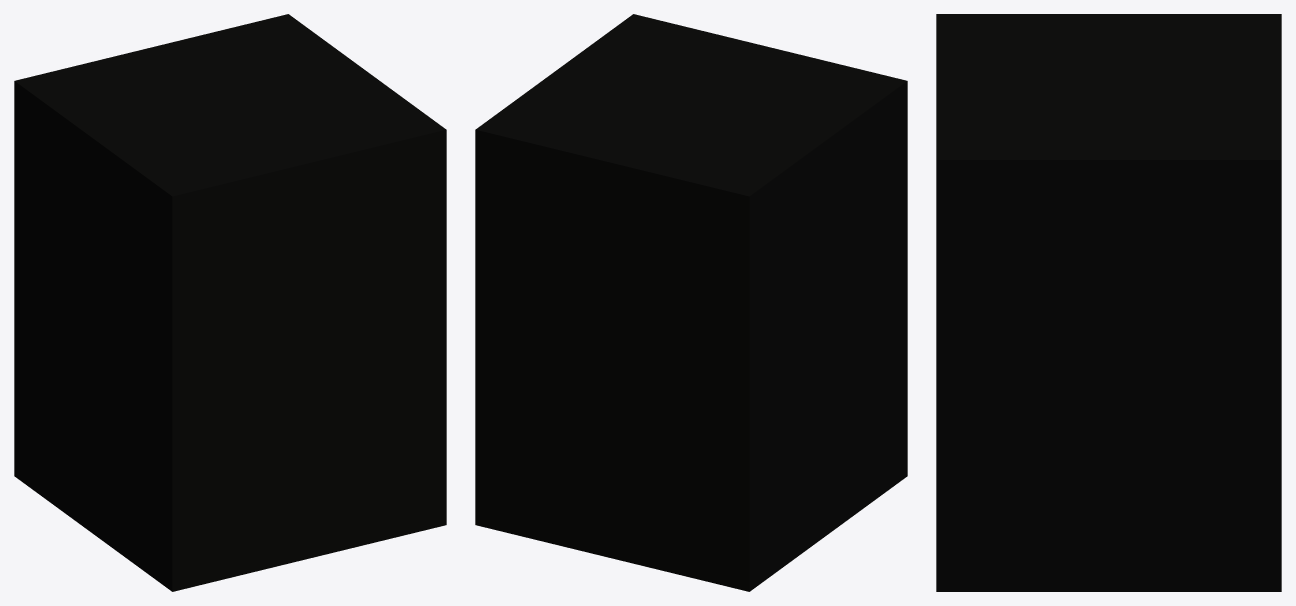
The model's file is Itr_Obj_Monitor_CRT_Neck_01.FBX.
3 views of the same model, side by side, from view 1: azimuth 30°, elevation 25°; view 2: azimuth 150°, elevation 25°; view 3: azimuth 270°, elevation 25° (orthographic). The views are drawn at different scales.
Visible parts, largest first — view 1: Itr_Obj_Monitor_CRT_Neck_01; view 2: Itr_Obj_Monitor_CRT_Neck_01; view 3: Itr_Obj_Monitor_CRT_Neck_01.
Part boxes in pixels (left/top/right/bottom): Itr_Obj_Monitor_CRT_Neck_01: left=14, top=14, right=446, bottom=591; Itr_Obj_Monitor_CRT_Neck_01: left=475, top=14, right=907, bottom=591; Itr_Obj_Monitor_CRT_Neck_01: left=936, top=14, right=1281, bottom=591.
Bounding box in the file's own units: 7.49 × 10.32 × 7.48.
